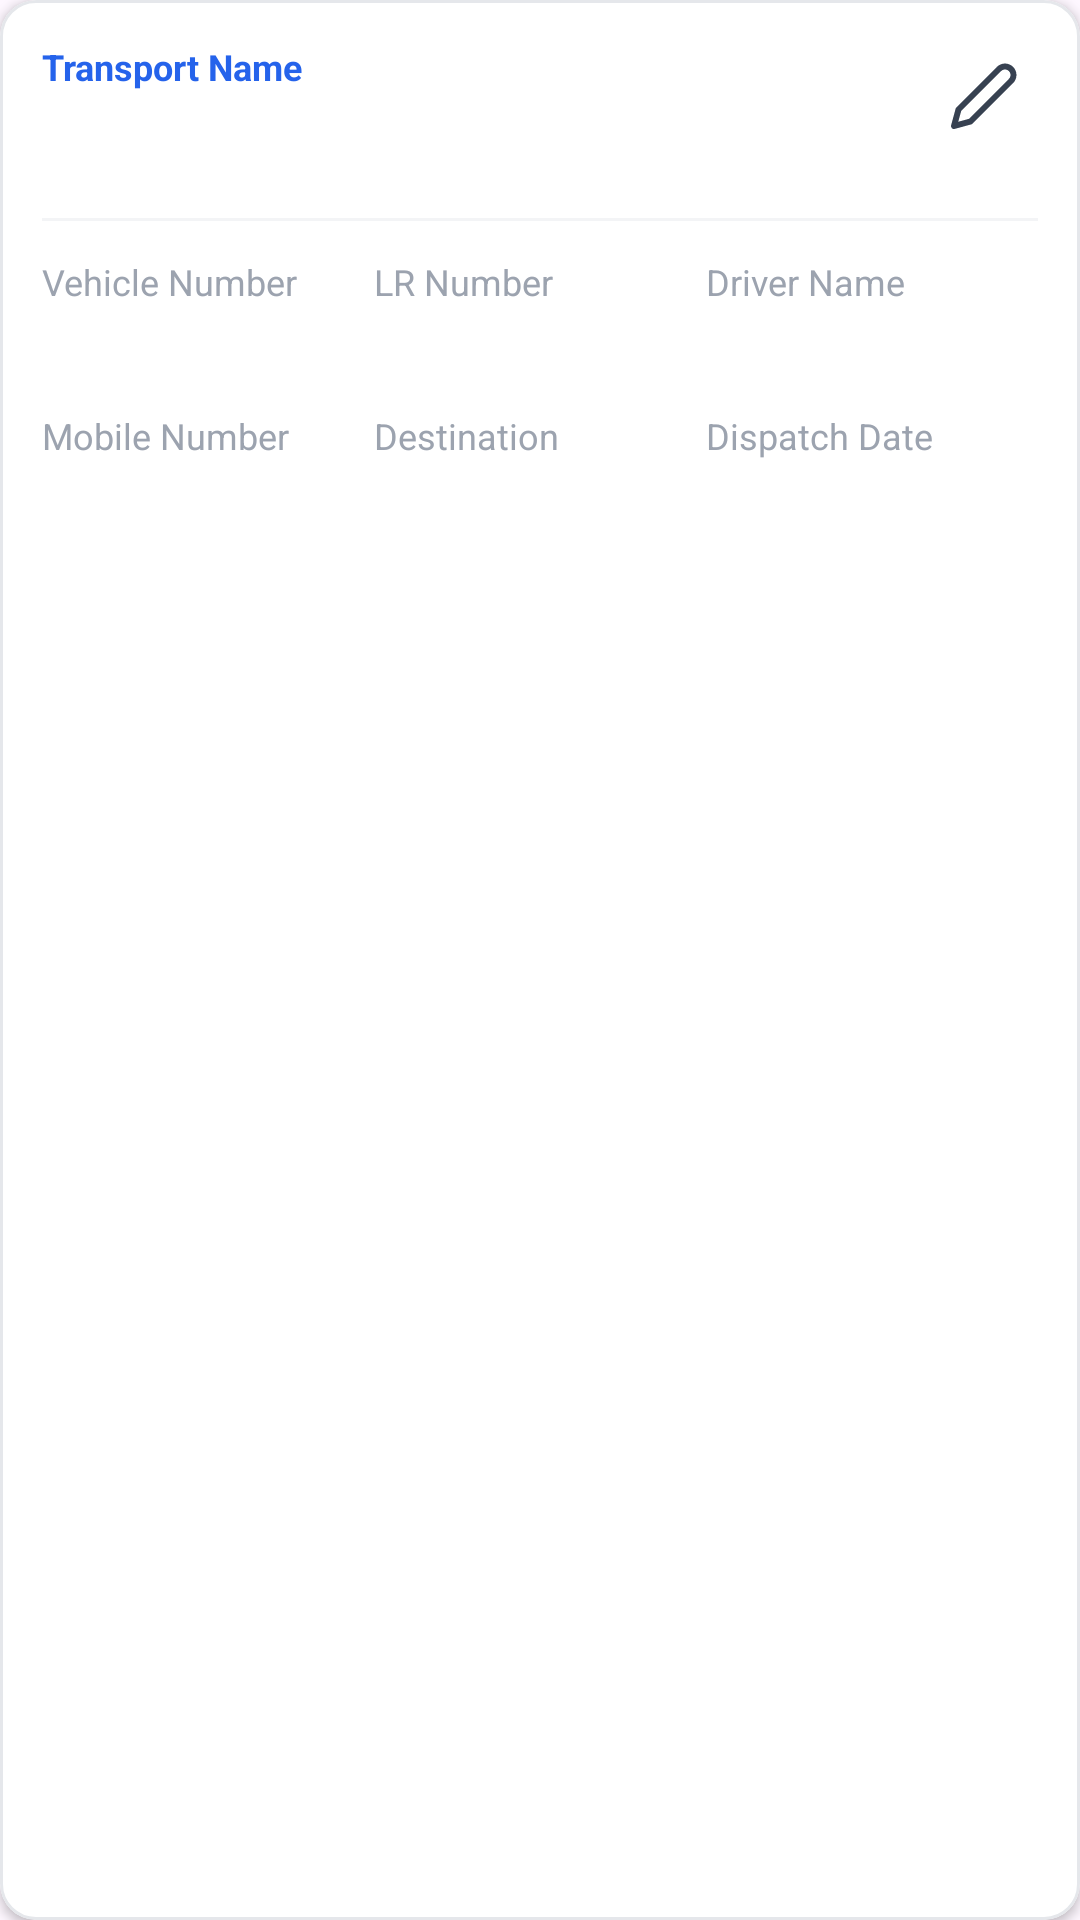

Icons on this 1080×1920 Android screen, each with its box as [x1,y1,x2,y2]:
Edit: [951,63,1017,129]
